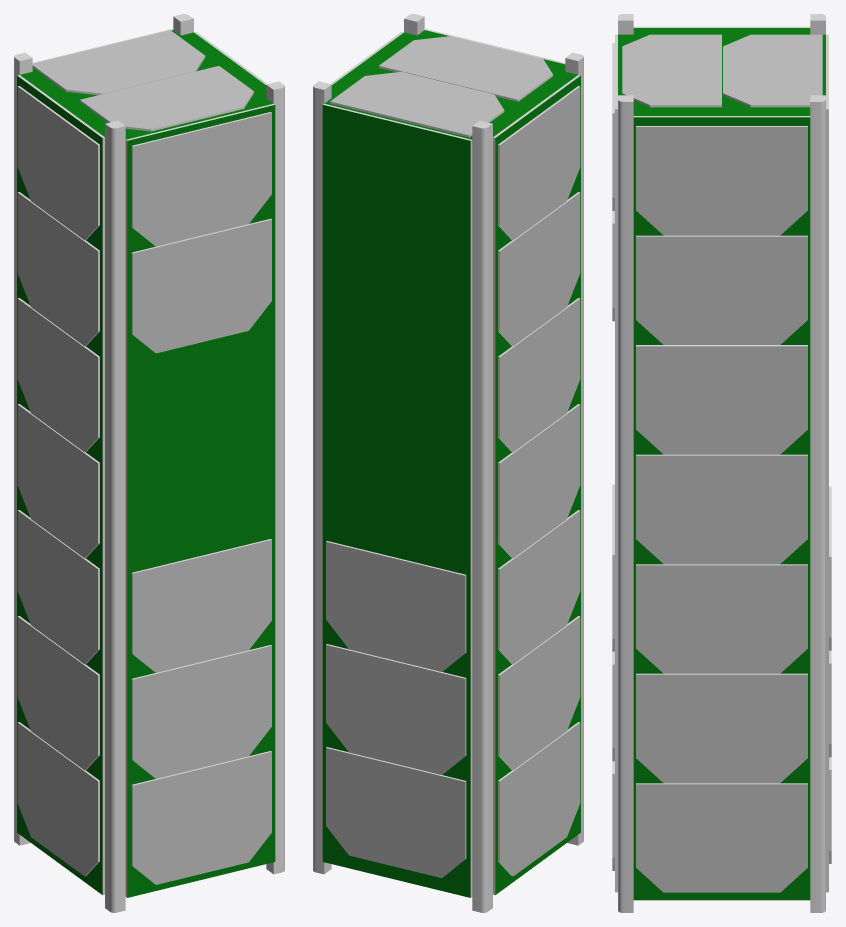
Rendered from 3Uwsolar.gltf.
3 renders of one model, left to right at view 1: azimuth 30°, elevation 25°; view 2: azimuth 150°, elevation 25°; view 3: azimuth 270°, elevation 25°, orthographic. The views are drawn at different scales.
Parts seen in each view (by area): view 1: Cube, YMinus, XMinus, ZPlus; view 2: Cube, XMinus, YPlus, ZPlus; view 3: XPlus, Cube, ZPlus.
Part boxes in pixels (x1=…): Cube: x1=14, y1=14, x2=284, y2=912; YMinus: x1=132, y1=113, x2=271, y2=884; XMinus: x1=17, y1=87, x2=97, y2=876; ZPlus: x1=32, y1=30, x2=253, y2=129; Cube: x1=313, y1=14, x2=583, y2=912; XMinus: x1=500, y1=87, x2=580, y2=876; YPlus: x1=326, y1=542, x2=465, y2=877; ZPlus: x1=330, y1=36, x2=552, y2=135; XPlus: x1=636, y1=127, x2=807, y2=892; Cube: x1=612, y1=14, x2=831, y2=912; ZPlus: x1=622, y1=34, x2=822, y2=104.
Bounding box in the file's own units: 0.1054 × 0.4305 × 0.1054.
